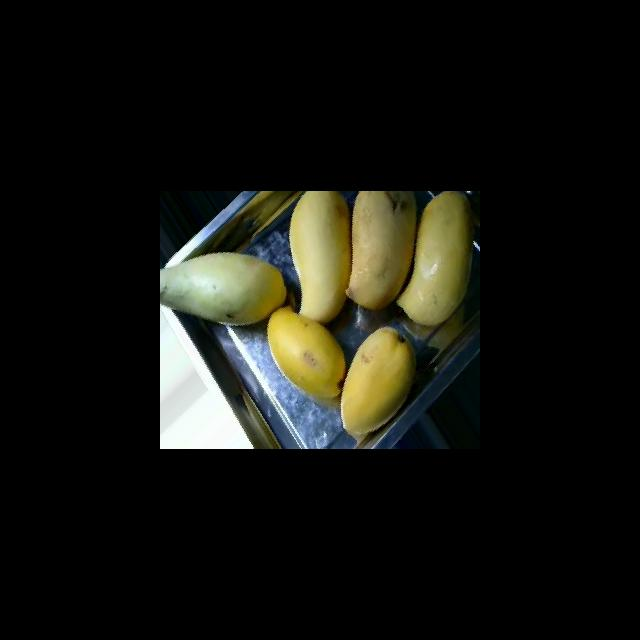Mango: (160, 251, 286, 325), (288, 191, 351, 323)
